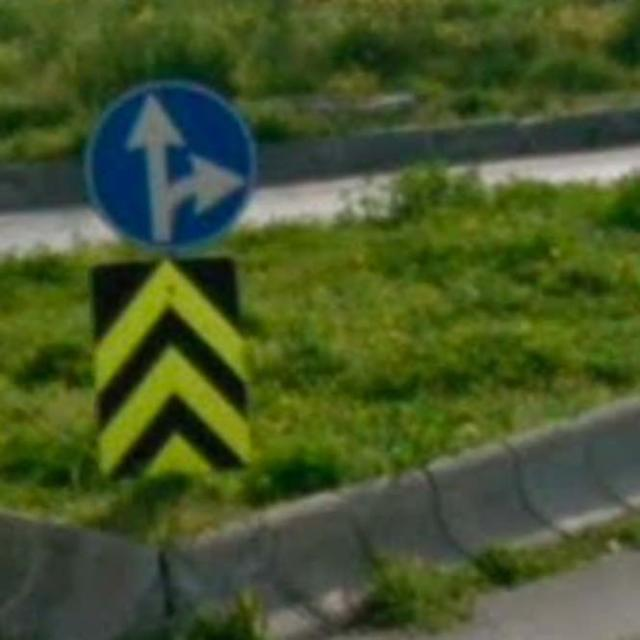ilerisag: (85, 78, 257, 250)
